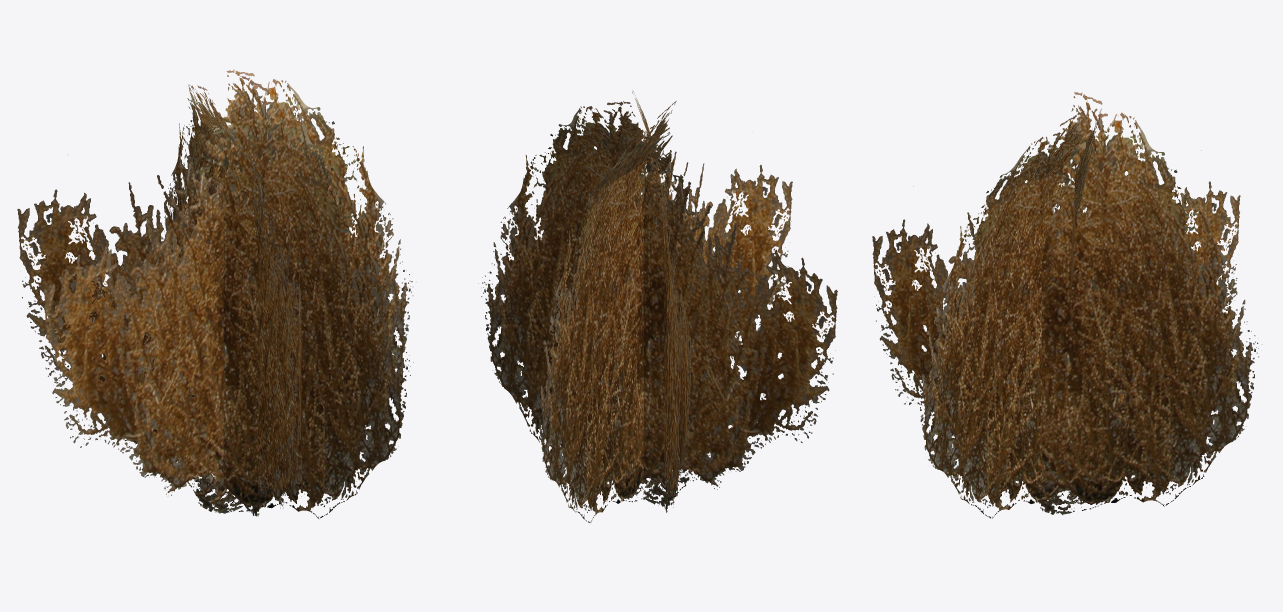
File: tumbleweed.fbx
3 views of the same model, side by side, from view 1: azimuth 30°, elevation 25°; view 2: azimuth 150°, elevation 25°; view 3: azimuth 270°, elevation 25° (orthographic). The views are drawn at different scales.
Parts seen in each view (by area): view 1: U3DMesh; view 2: U3DMesh; view 3: U3DMesh.
Part boxes in pixels (<box>): U3DMesh: <box>17,69,413,518</box>; U3DMesh: <box>478,91,837,522</box>; U3DMesh: <box>872,92,1262,518</box>.
Size of the model in its own units: 1.64 by 1.79 by 1.57.
1 material, 1 textured.
